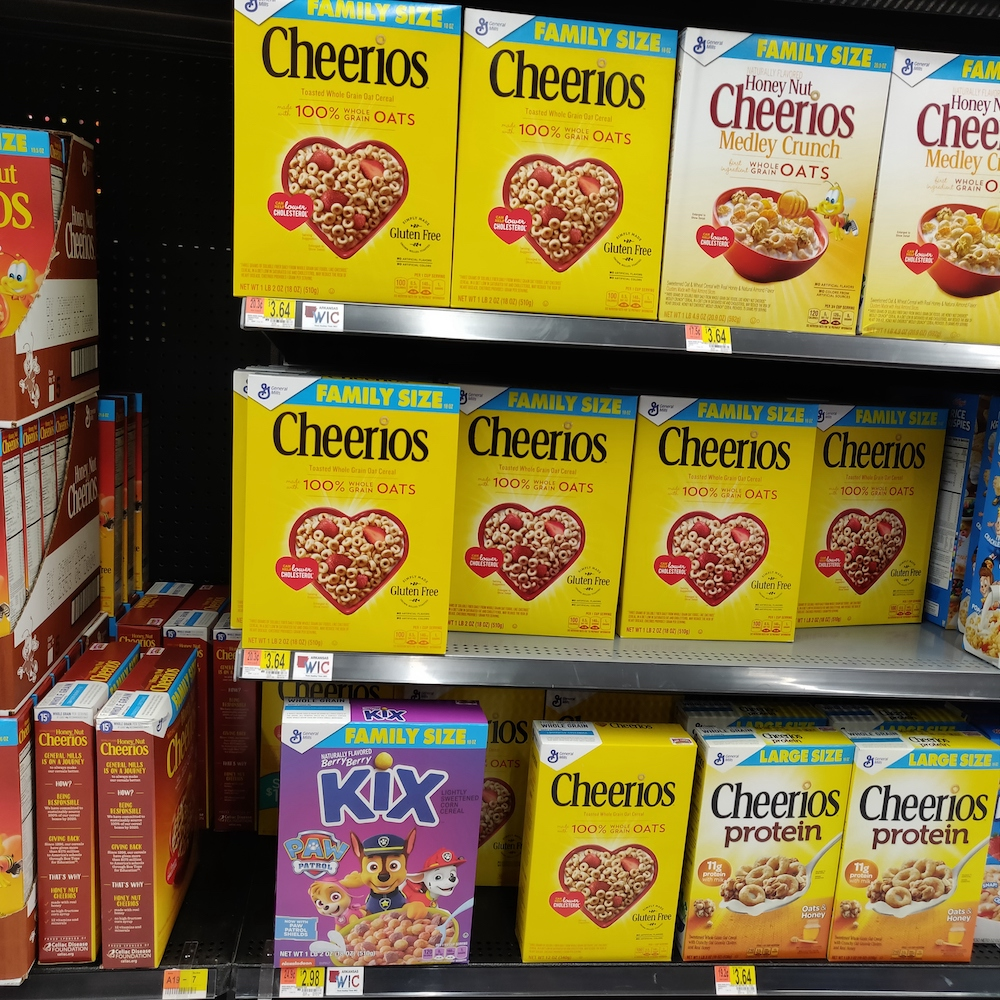Kix Berry -568919964: (282, 739, 479, 965)
